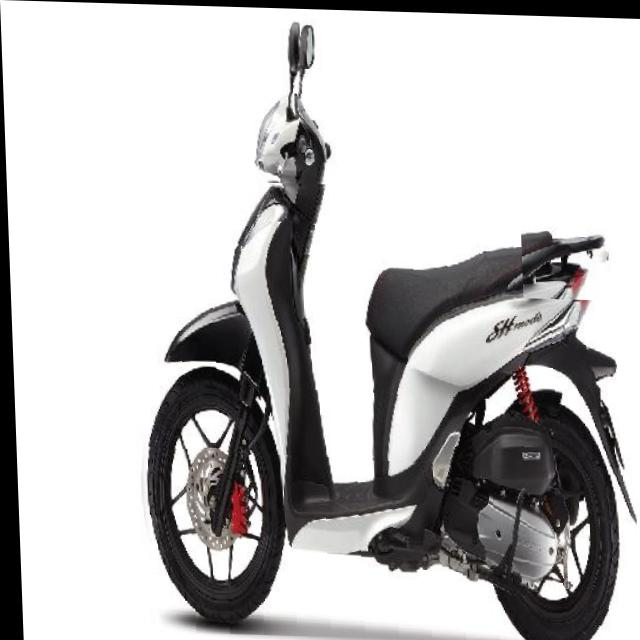All: (117, 74, 637, 640)
Head: (249, 91, 336, 183)
Tail: (519, 213, 609, 297)
